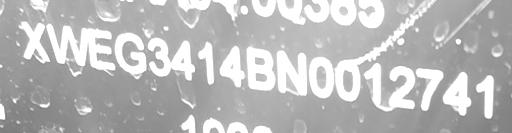letter: (46, 23, 88, 68), (274, 50, 310, 95), (416, 64, 450, 107), (439, 73, 473, 116), (112, 29, 144, 72), (334, 58, 362, 105), (360, 59, 388, 106), (386, 65, 416, 108), (217, 45, 243, 94), (246, 47, 274, 92), (21, 21, 49, 63), (86, 27, 112, 70), (174, 39, 196, 84), (310, 55, 334, 96), (474, 75, 496, 117), (148, 34, 170, 75), (198, 42, 218, 87)
